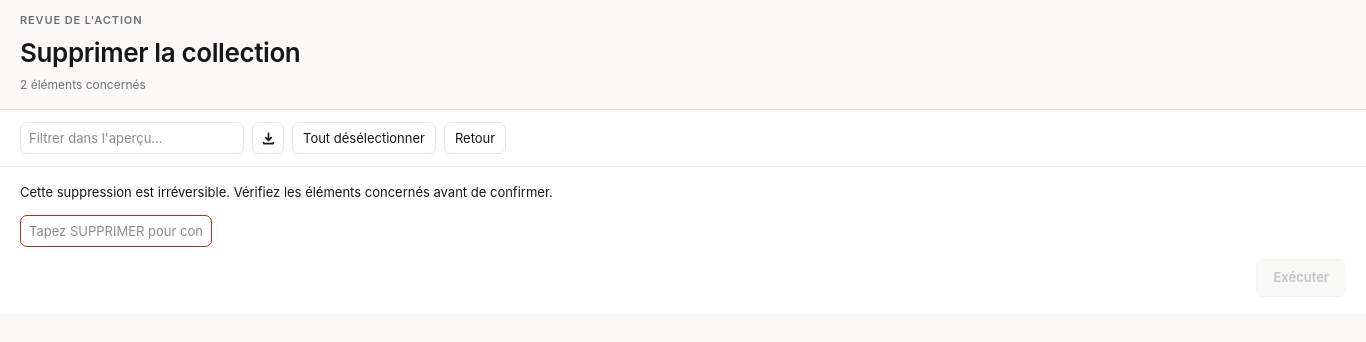
Test: ReviewPage — suppression de collections individuelles (niveau 2) › un échec reste inline, la Revue tient, pas de retour
In the field with placeholder "Tapez SUPPRIMER pour confirmer": [116, 230] box [20,214,212,246], type "SUPPRIMER"
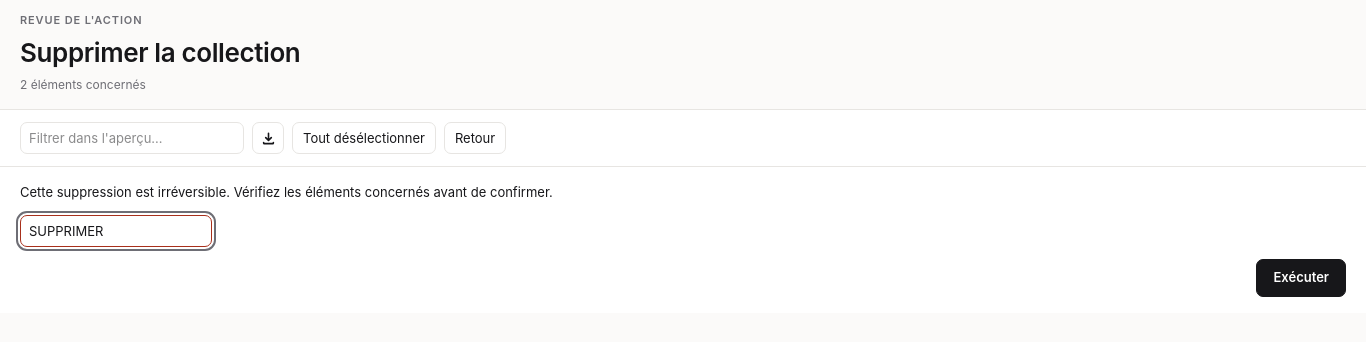
Click the button "Exécuter": [1301, 278] box [1256,258,1346,296]
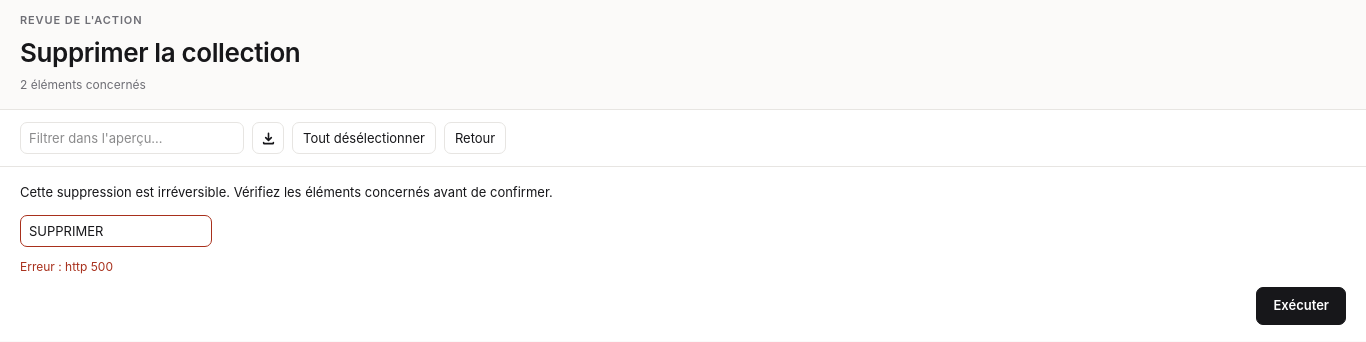
Check: the message "Erreur : http 500" is shown, box [20,258,113,274]
